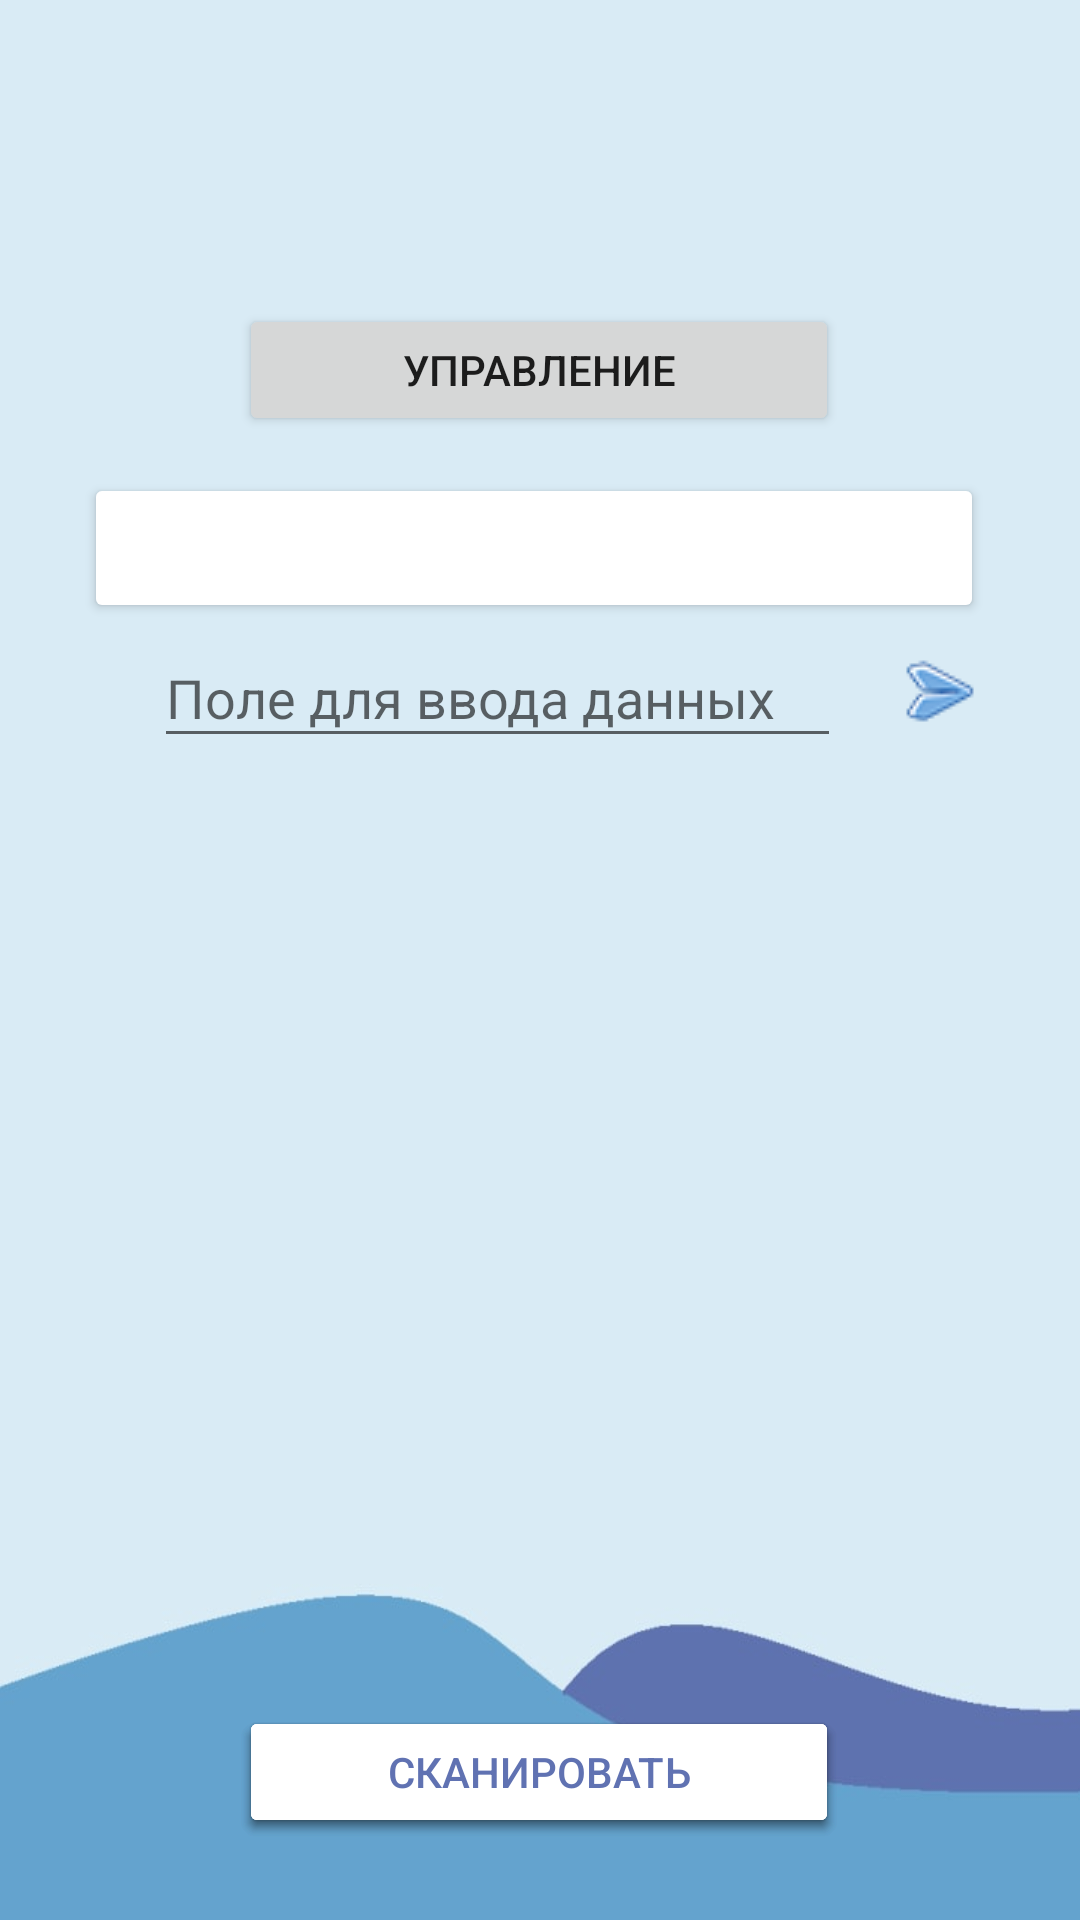

Locate icon controls on the screen. Image size 1080w x 1920h, boxes as (x1, y1, x2, y2).
sendicon: (906, 660, 974, 722)
